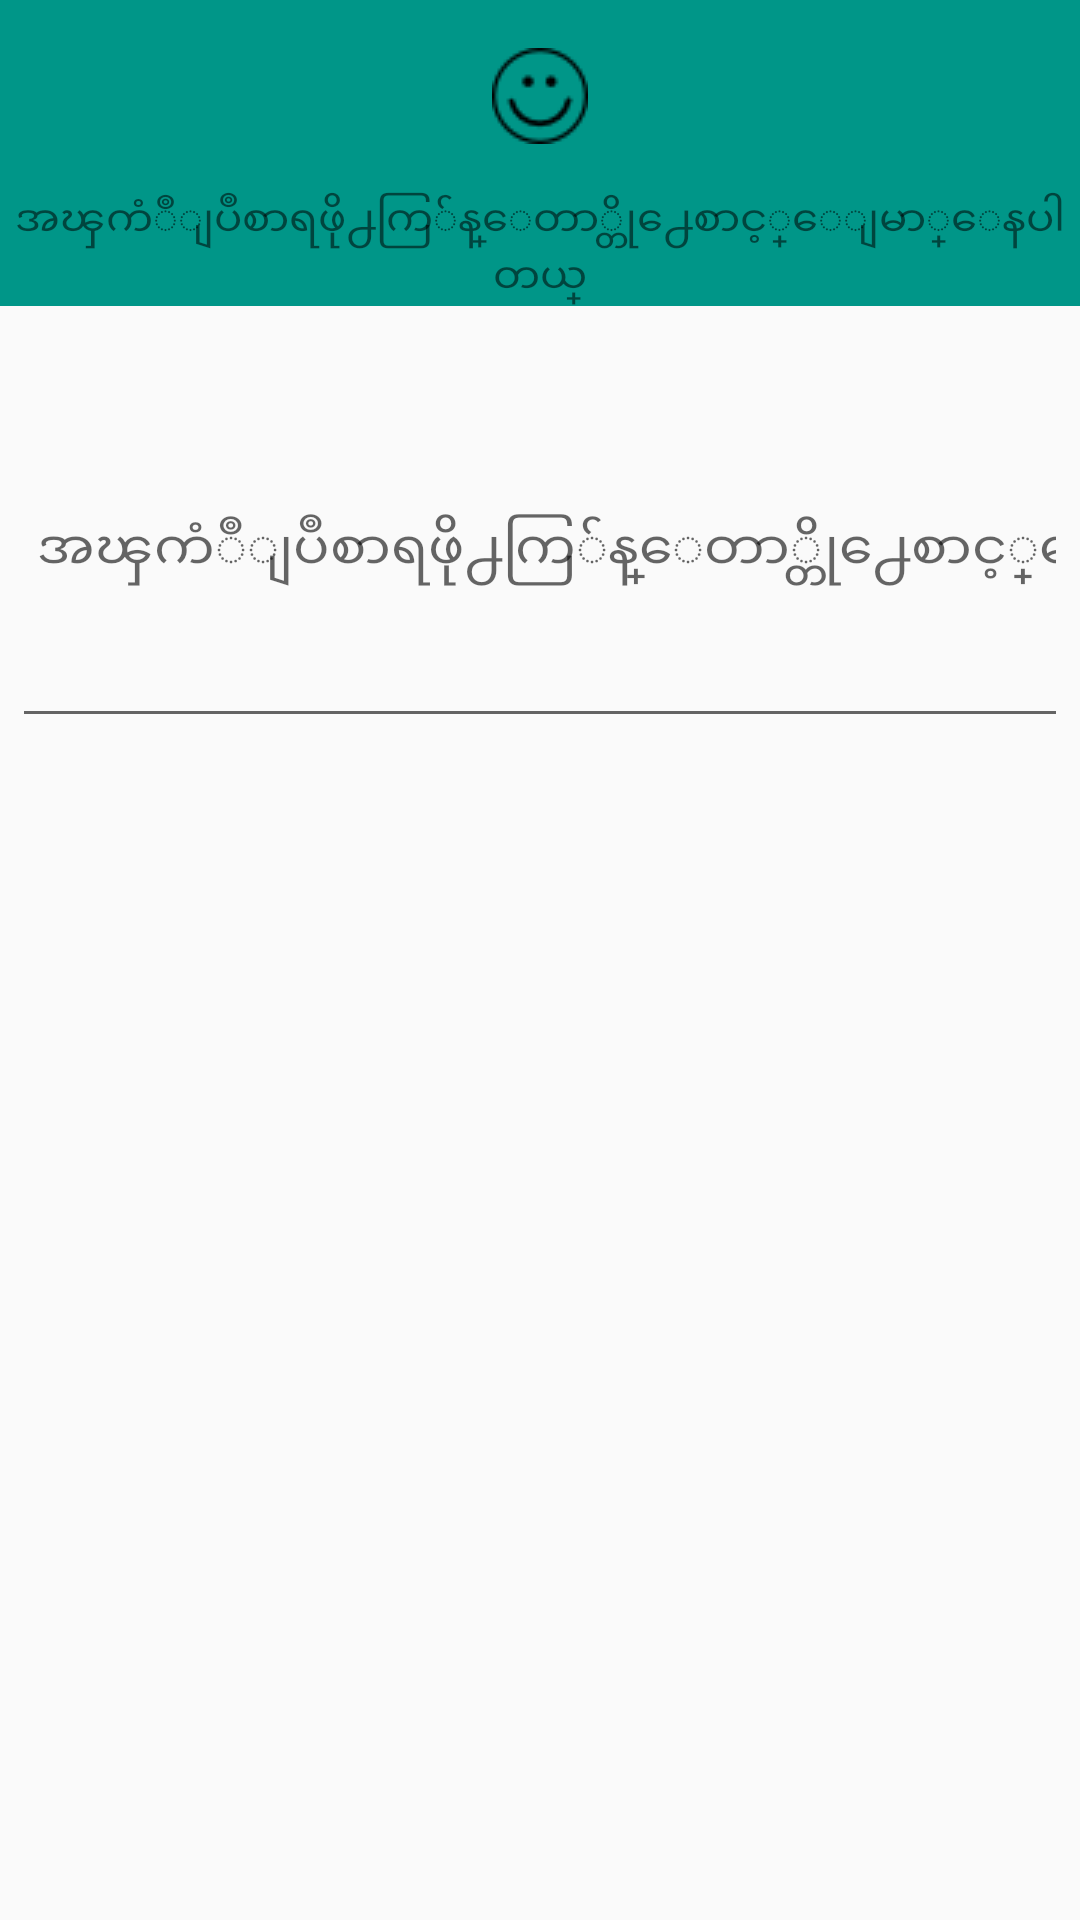

Screen size 1080×1920. Icon name, then its box in pixels as (x1, y1, x2, y2):
smile: (492, 48, 588, 144)
